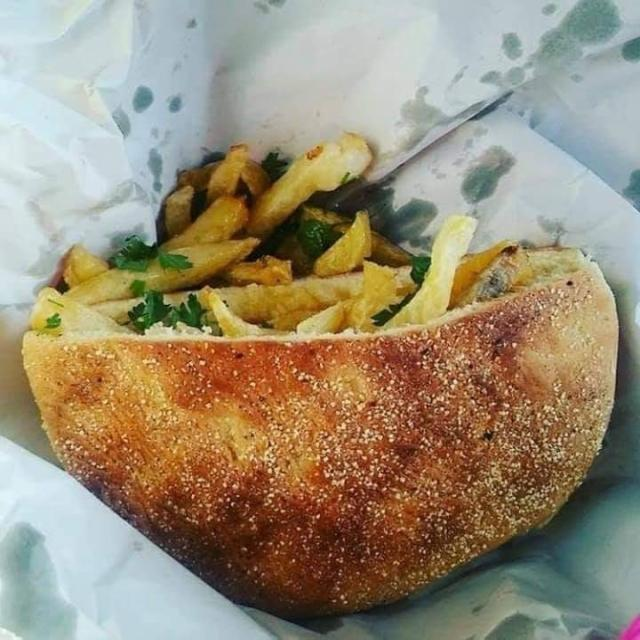Sandwitch tounsi: (3, 225, 612, 589)
